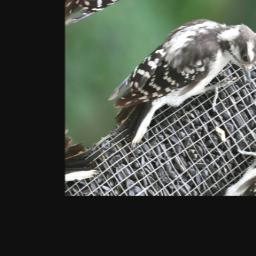Woodpecker: (89, 0, 256, 170)
